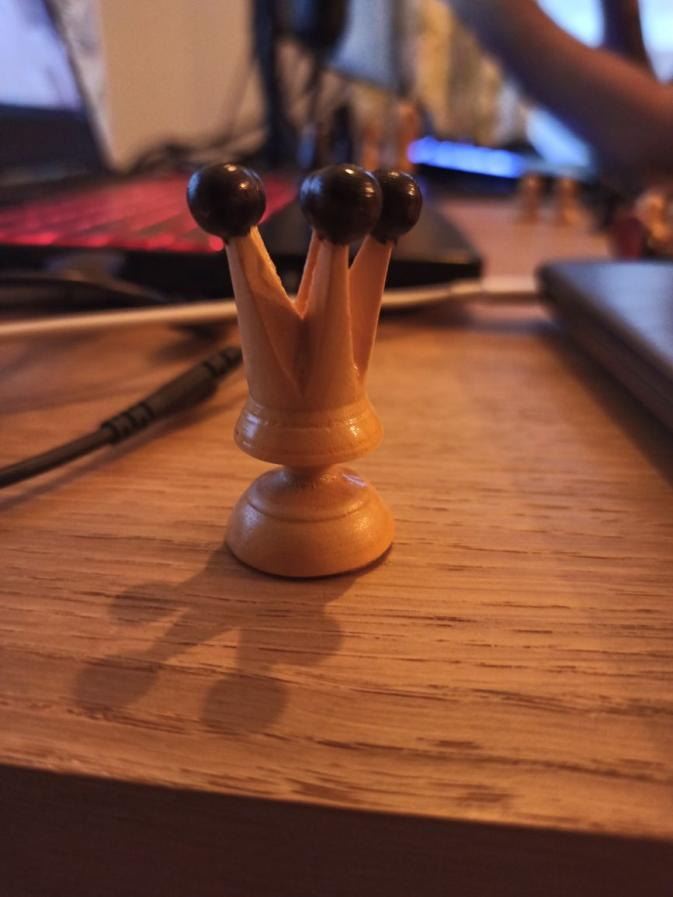wqueen: (184, 163, 423, 577)
